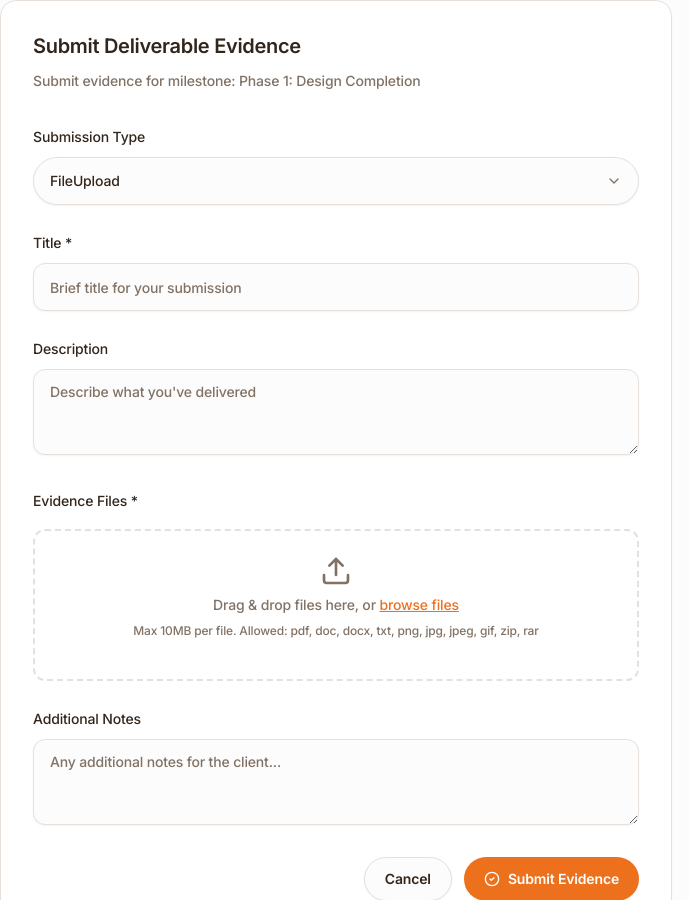
Scenario: EvidenceUpload › Submission Type Changes › should change to CodeRepository submission type
Click the dropdown at (85, 180), box [33,157,639,205]
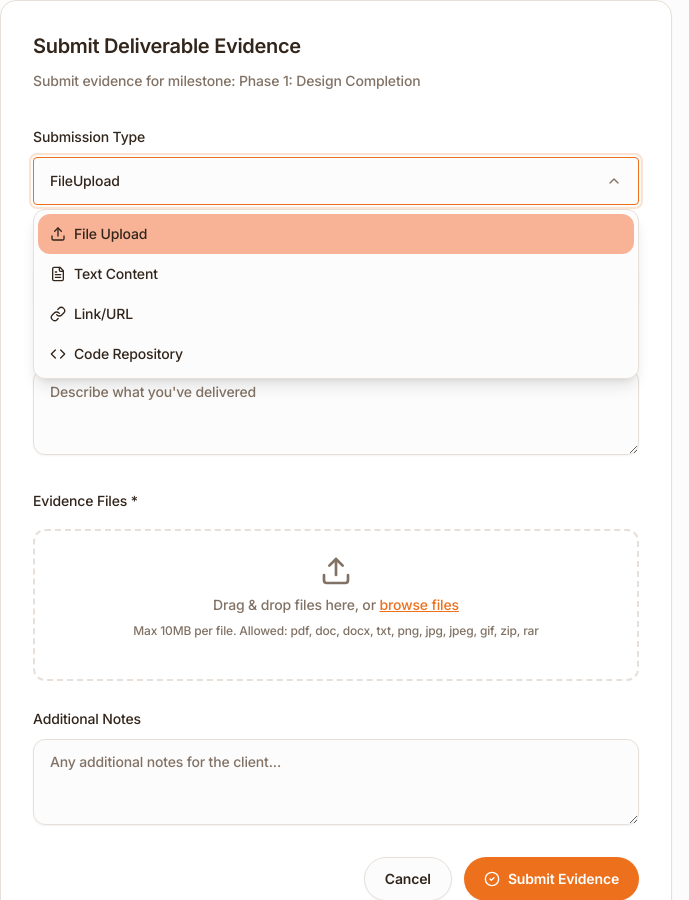
Click the option "Code Repository" at (116, 354), box [50,345,183,362]
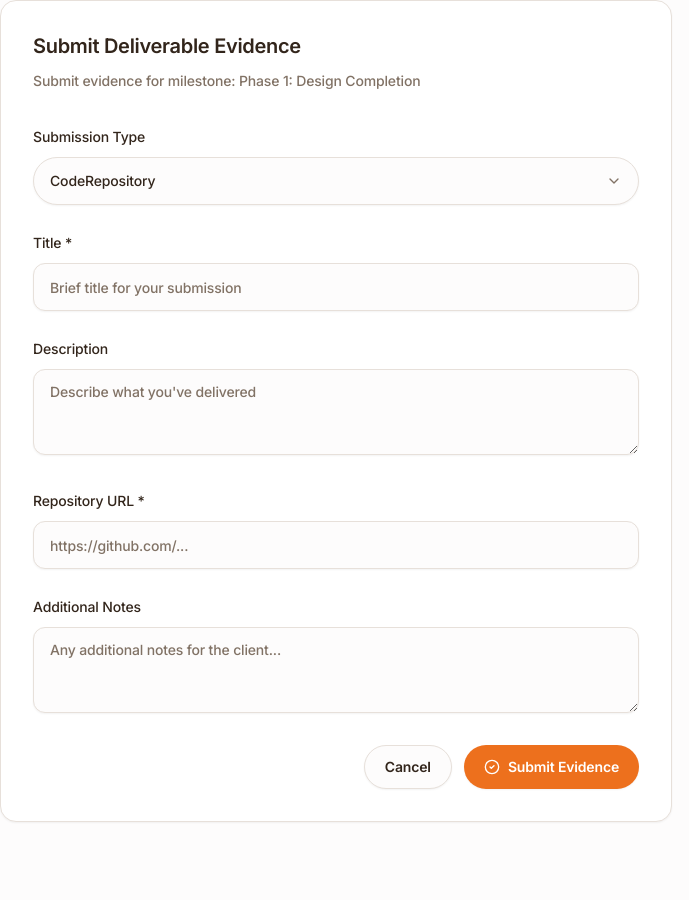
Expected: the field labelled "Repository URL *" is shown, [33,521,639,569]
